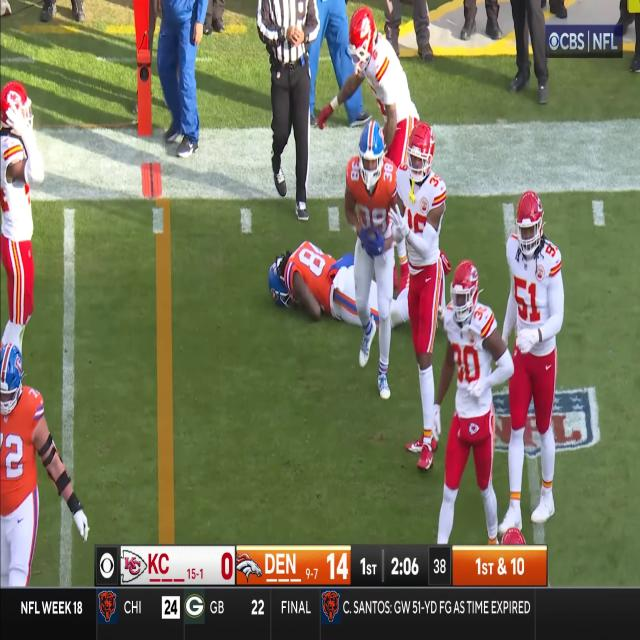Player: (432, 256, 516, 546), (504, 190, 560, 539), (394, 119, 442, 474), (254, 235, 412, 335), (0, 84, 48, 366), (336, 5, 421, 152), (354, 118, 398, 400), (0, 344, 47, 595)
Referee: (254, 0, 316, 222)
